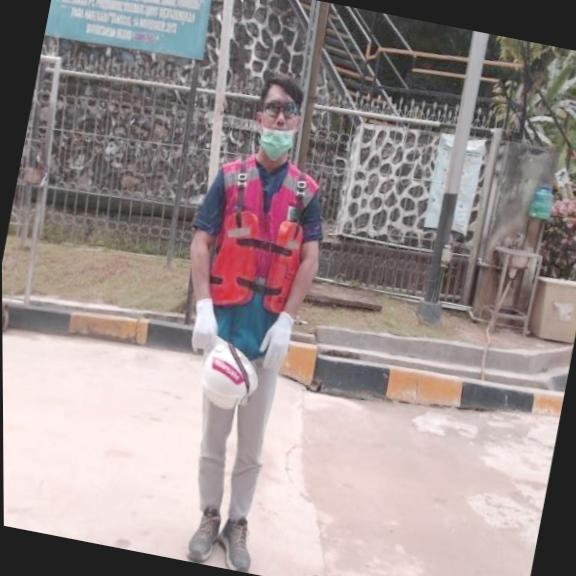safety_vest: (203, 208, 305, 312)
